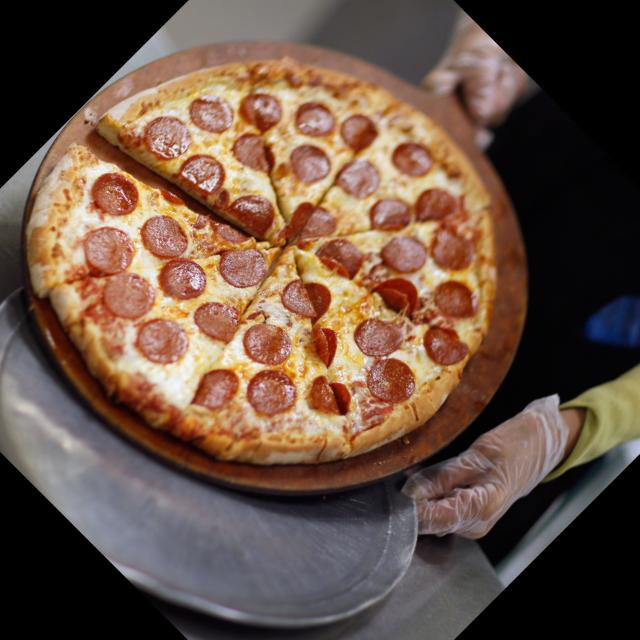pepperoni: (347, 342, 427, 422), (123, 197, 201, 275), (68, 214, 144, 290), (126, 303, 201, 378), (232, 304, 306, 378), (92, 261, 164, 333), (146, 244, 216, 314), (227, 76, 296, 145), (238, 360, 306, 428), (182, 353, 250, 421), (182, 288, 250, 356), (180, 78, 248, 146), (296, 362, 364, 428), (421, 214, 486, 280), (82, 164, 147, 228), (350, 300, 414, 364), (423, 267, 487, 331), (172, 141, 236, 205), (380, 128, 444, 192), (311, 223, 374, 286), (208, 235, 270, 298), (279, 192, 341, 254), (413, 314, 474, 376), (375, 224, 435, 284), (370, 260, 430, 320), (142, 108, 202, 168), (278, 133, 338, 193), (404, 171, 464, 231), (330, 150, 388, 207), (361, 186, 418, 243), (297, 316, 353, 372), (226, 178, 282, 234), (226, 120, 282, 176), (290, 86, 346, 142), (328, 103, 384, 159)
pizza: (24, 66, 496, 467)
